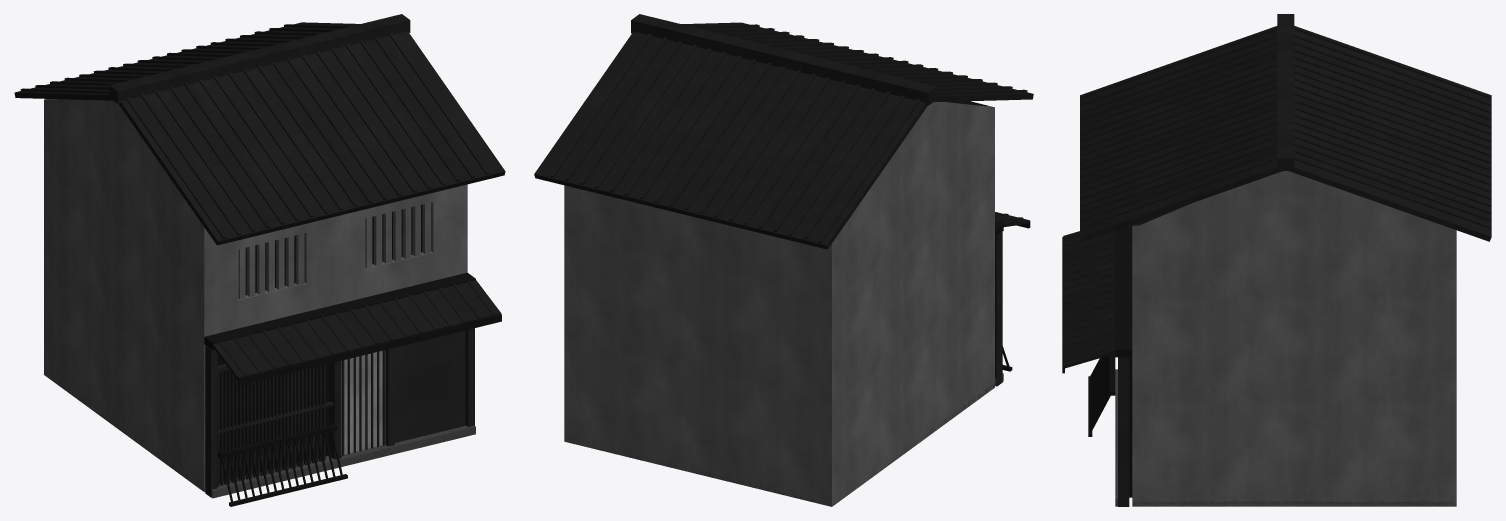
The model's file is facade_machiya.glb.
3 renders of one model, left to right at view 1: azimuth 30°, elevation 25°; view 2: azimuth 150°, elevation 25°; view 3: azimuth 270°, elevation 25°, orthographic.
Visible parts, largest first — view 1: facade_machiya; view 2: facade_machiya; view 3: facade_machiya.
Boxes of the visible parts, x1=… form: facade_machiya: x1=14, y1=14, x2=505, y2=506; facade_machiya: x1=534, y1=14, x2=1033, y2=506; facade_machiya: x1=1062, y1=14, x2=1491, y2=506.
Size of the model in its own units: 6 by 6.9 by 7.55.
8 materials, 8 textured.
